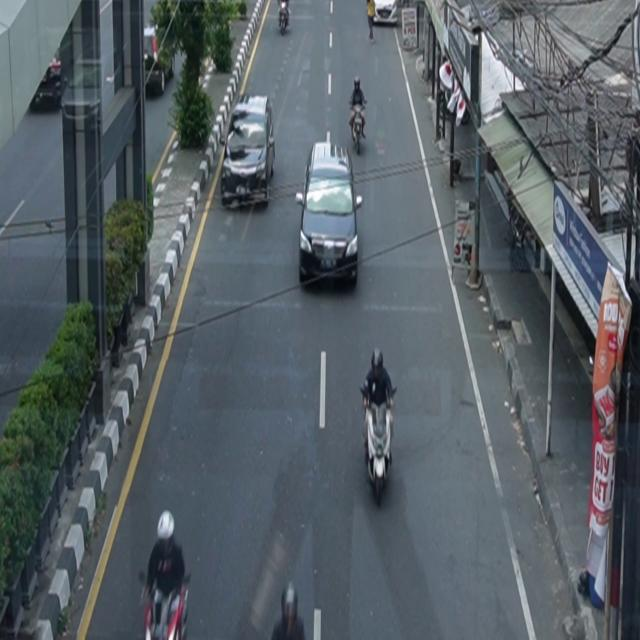car: (296, 141, 364, 289), (221, 94, 276, 208), (373, 1, 398, 26)
